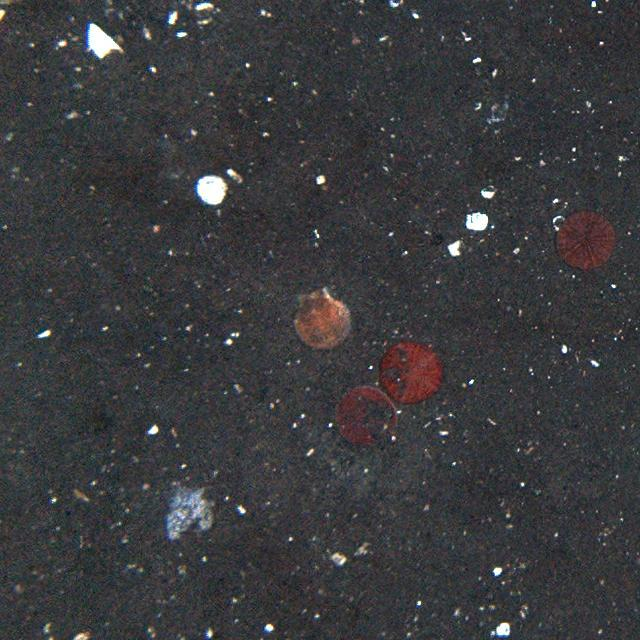scallop: (290, 288, 357, 354)
